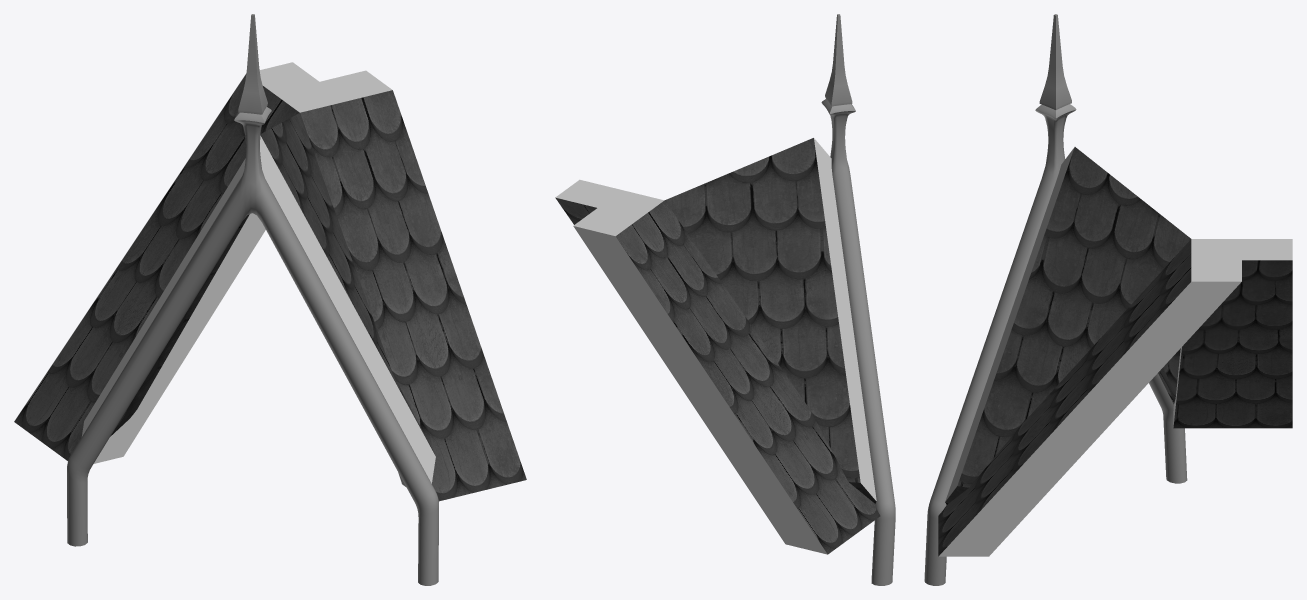
The model's file is SM_Roof_A_006.FBX.
3 renders of one model, left to right at view 1: azimuth 30°, elevation 25°; view 2: azimuth 150°, elevation 25°; view 3: azimuth 270°, elevation 25°, orthographic. The views are drawn at different scales.
Visible parts, largest first — view 1: SM_Roof_A_006; view 2: SM_Roof_A_006; view 3: SM_Roof_A_006.
Boxes of the visible parts, <box> form: SM_Roof_A_006: <box>14,14,526,585</box>; SM_Roof_A_006: <box>555,14,895,585</box>; SM_Roof_A_006: <box>924,14,1292,585</box>.
Bounding box in the file's own units: 360 × 562 × 364.
